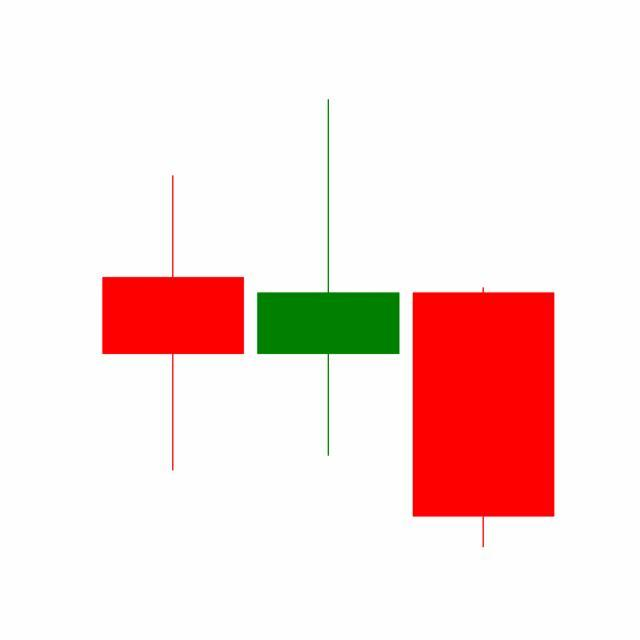Spinning Top: (250, 96, 407, 461)
